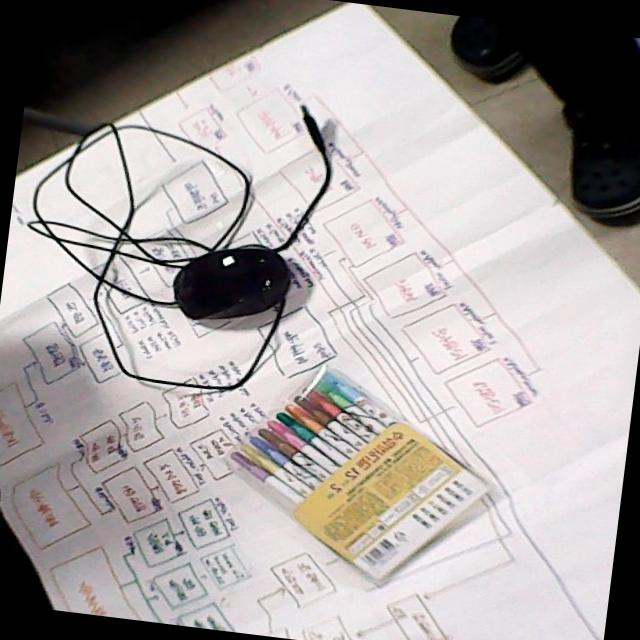mouse: (167, 240, 298, 324)
signpen: (212, 358, 504, 594)
